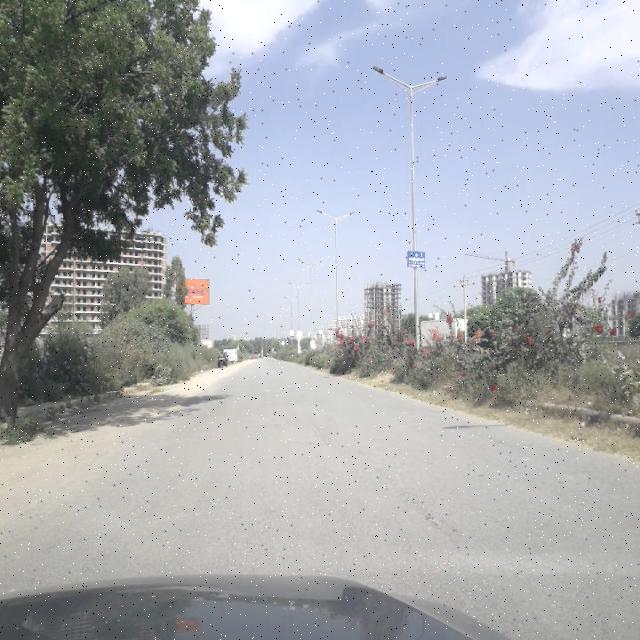D40: (423, 511, 455, 541)
